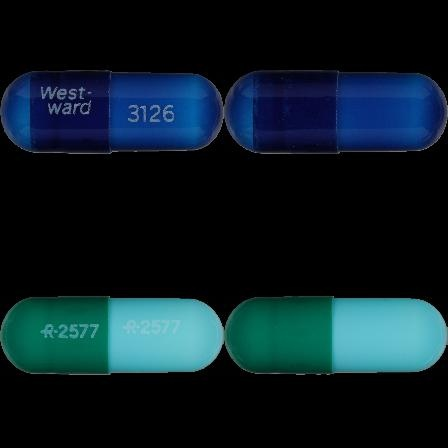53808-0611: (0, 0, 224, 224)
